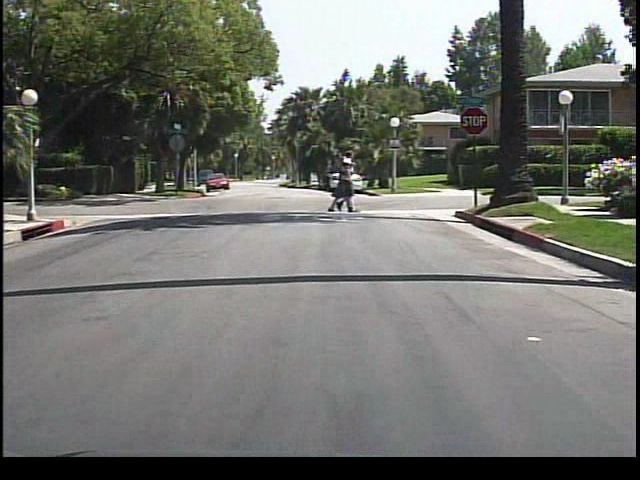person: (327, 149, 358, 215)
